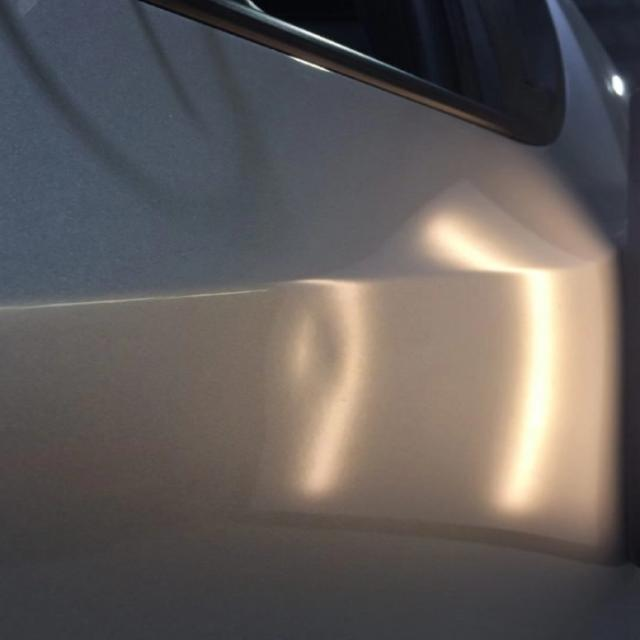dents: (217, 254, 614, 541)
